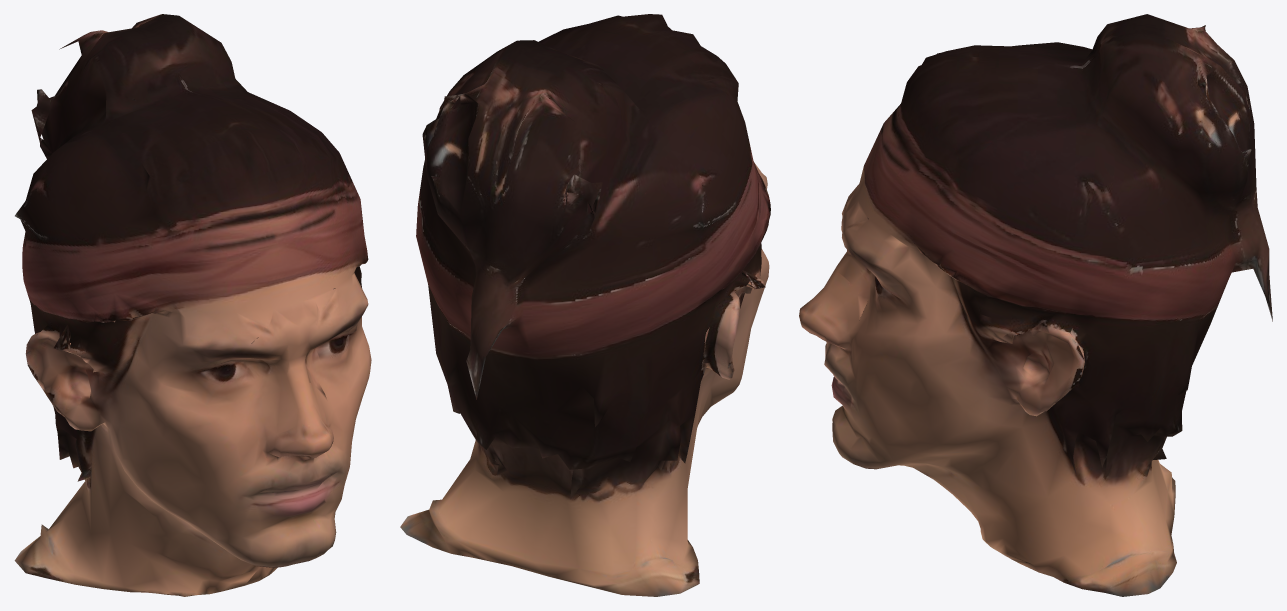
Rendered from wijaya-ulang-kepala.glb.
3 renders of one model, left to right at view 1: azimuth 30°, elevation 25°; view 2: azimuth 150°, elevation 25°; view 3: azimuth 270°, elevation 25°, orthographic.
Visible parts, largest first — view 1: kepala; view 2: kepala; view 3: kepala.
Boxes of the visible parts, x1=… form: kepala: x1=14, y1=14, x2=371, y2=596; kepala: x1=400, y1=14, x2=770, y2=596; kepala: x1=799, y1=14, x2=1272, y2=596.
Size of the model in its own units: 0.1824 by 0.2827 by 0.241.
1 material, 1 textured.
